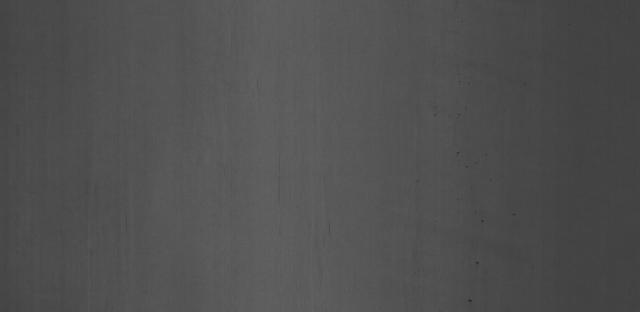inclusion: (464, 295, 478, 305), (454, 147, 463, 160), (478, 216, 492, 224), (474, 257, 482, 267)
